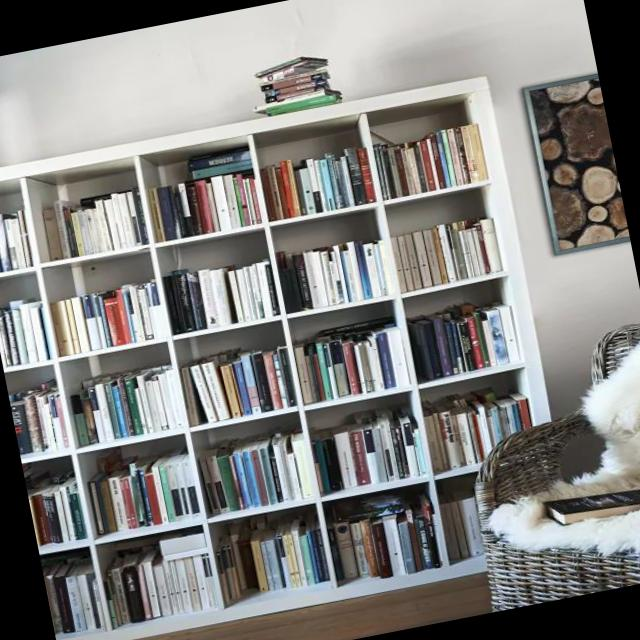Shelf: (0, 68, 590, 640)
